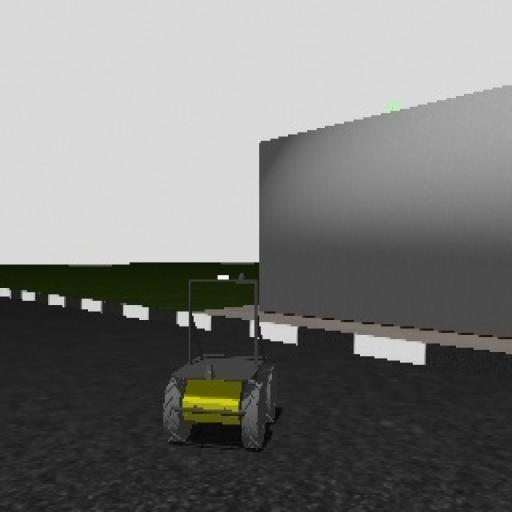huskya200: (151, 267, 292, 460)
